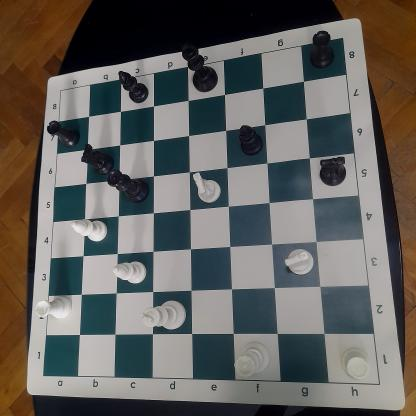black-bishop: (116, 68, 150, 106), (237, 123, 265, 157)
black-king: (180, 42, 221, 94)
black-knight: (79, 141, 115, 177), (318, 155, 349, 188)
black-queen: (105, 168, 152, 205)
black-rook: (308, 28, 337, 70), (45, 119, 82, 149)
white-bishop: (109, 258, 151, 286), (70, 217, 110, 243)
white-king: (138, 297, 191, 333)
white-knight: (190, 171, 225, 206), (282, 248, 315, 277)
white-queen: (233, 341, 272, 378)
white-rook: (339, 344, 374, 382), (35, 295, 74, 323)
